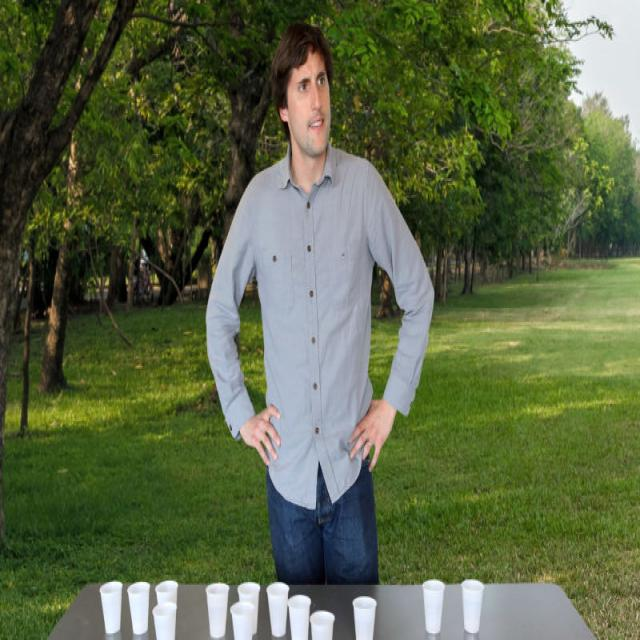mobile_phonerotation: (204, 20, 435, 583)
